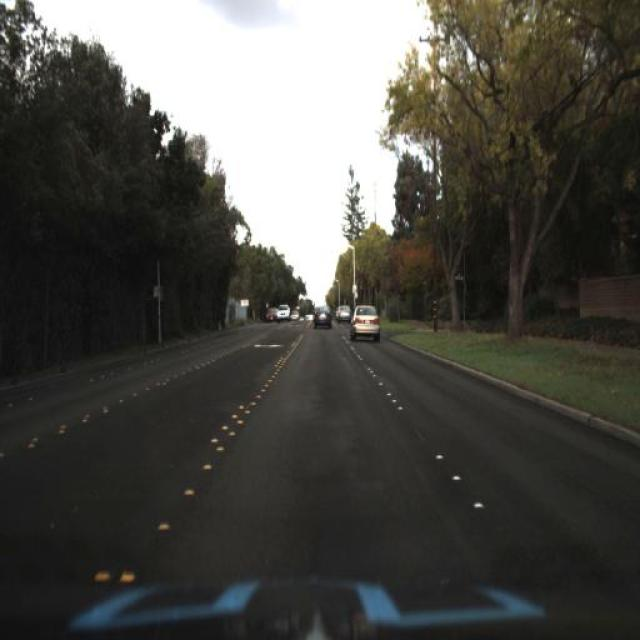car: (347, 294, 379, 340), (334, 300, 356, 329), (310, 299, 330, 330), (334, 300, 348, 326), (277, 304, 289, 321)
